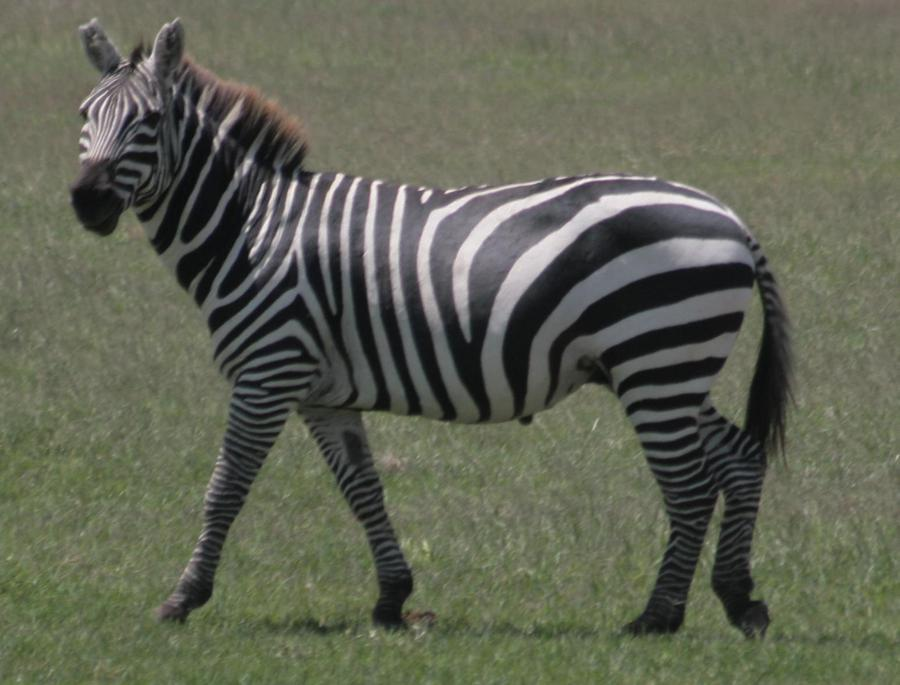zebra_plains: (193, 134, 771, 463)
